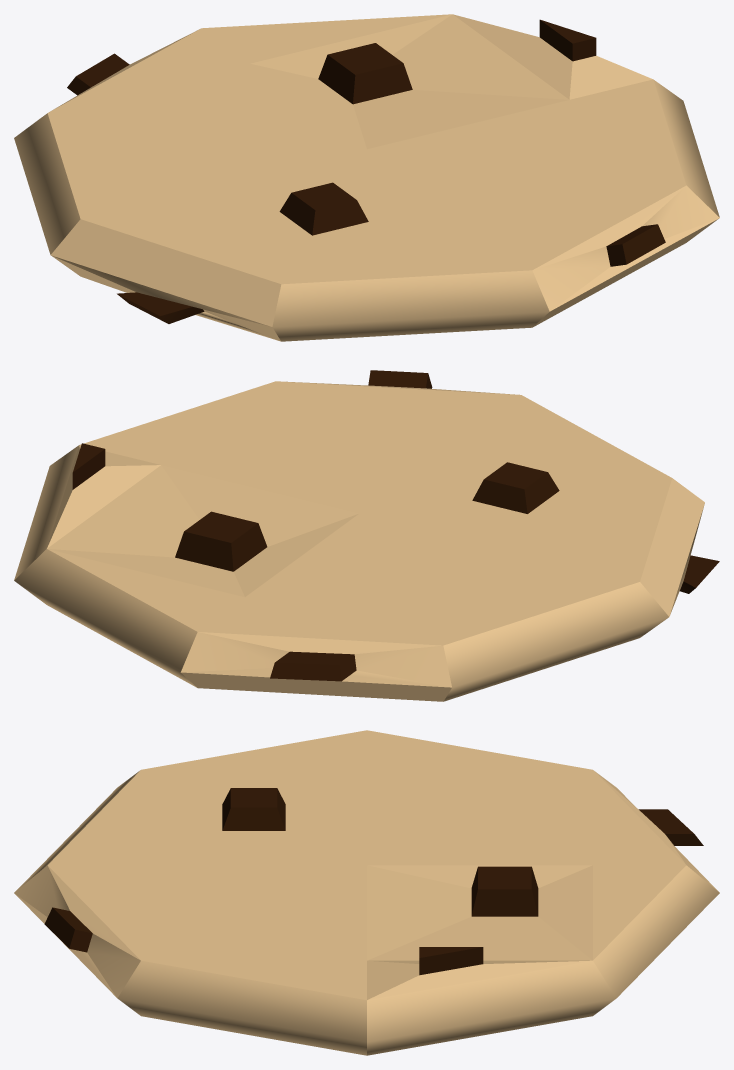
The model's file is choco_cookie.fbx.
The picture shows the model from 3 angles, top to bottom: view 1: azimuth 30°, elevation 25°; view 2: azimuth 150°, elevation 25°; view 3: azimuth 270°, elevation 25°; orthographic projection. The views are drawn at different scales.
Parts seen in each view (by area): view 1: Chocolate_Cookie; view 2: Chocolate_Cookie; view 3: Chocolate_Cookie.
Boxes of the visible parts, left/top/right/bottom form: Chocolate_Cookie: left=14, top=14, right=719, bottom=341; Chocolate_Cookie: left=14, top=370, right=719, bottom=701; Chocolate_Cookie: left=14, top=730, right=719, bottom=1055.
Bounding box in the file's own units: 1.99 × 0.2595 × 1.99.
